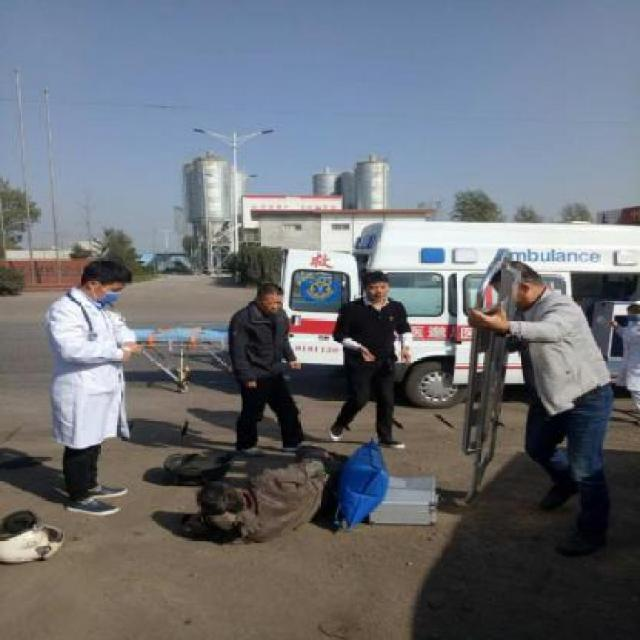fall: (164, 440, 359, 548)
